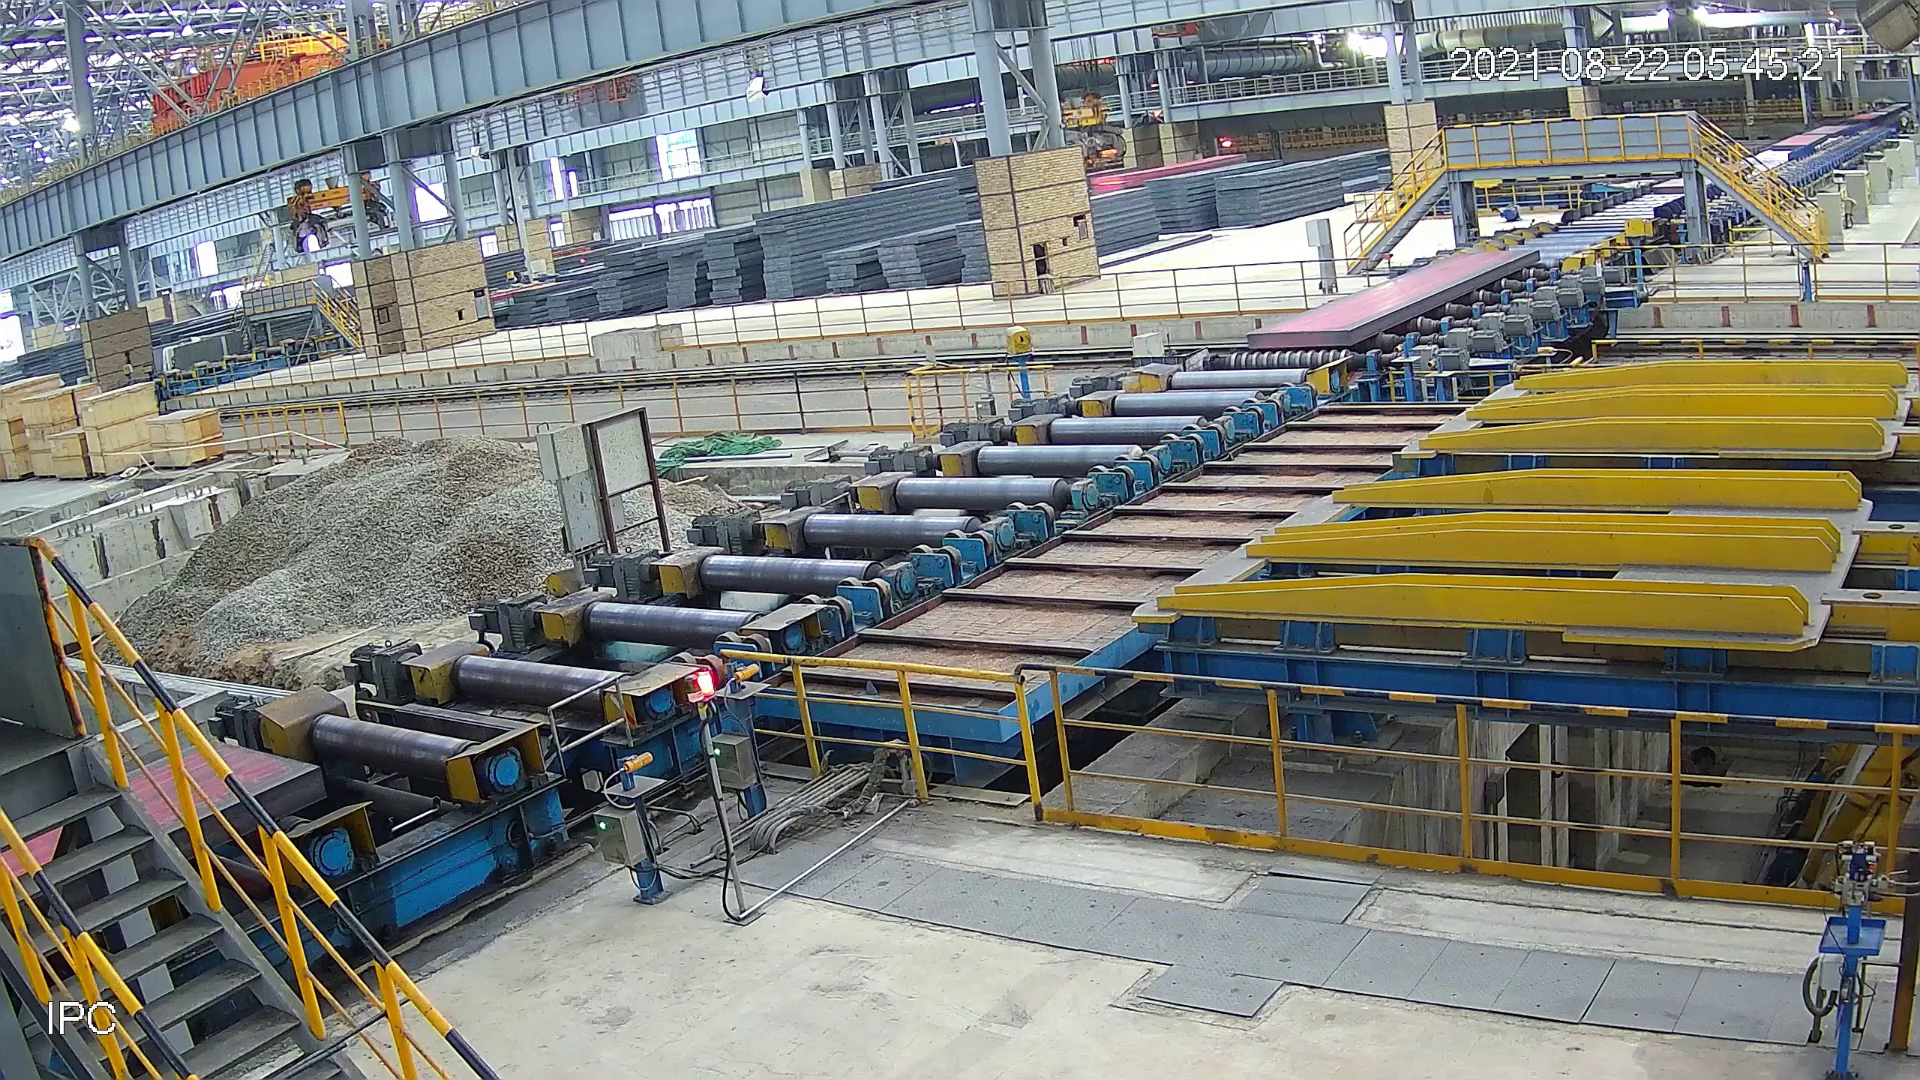slab: (1, 735, 349, 927), (1240, 240, 1540, 357)
